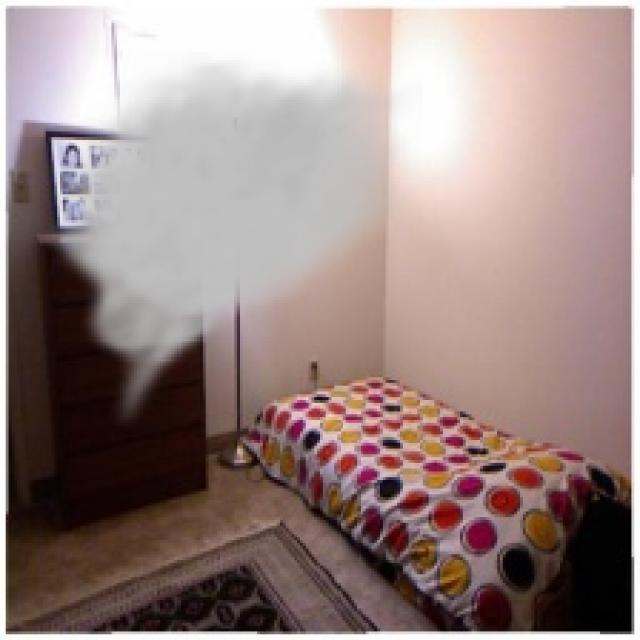smoke: (40, 51, 423, 432)
